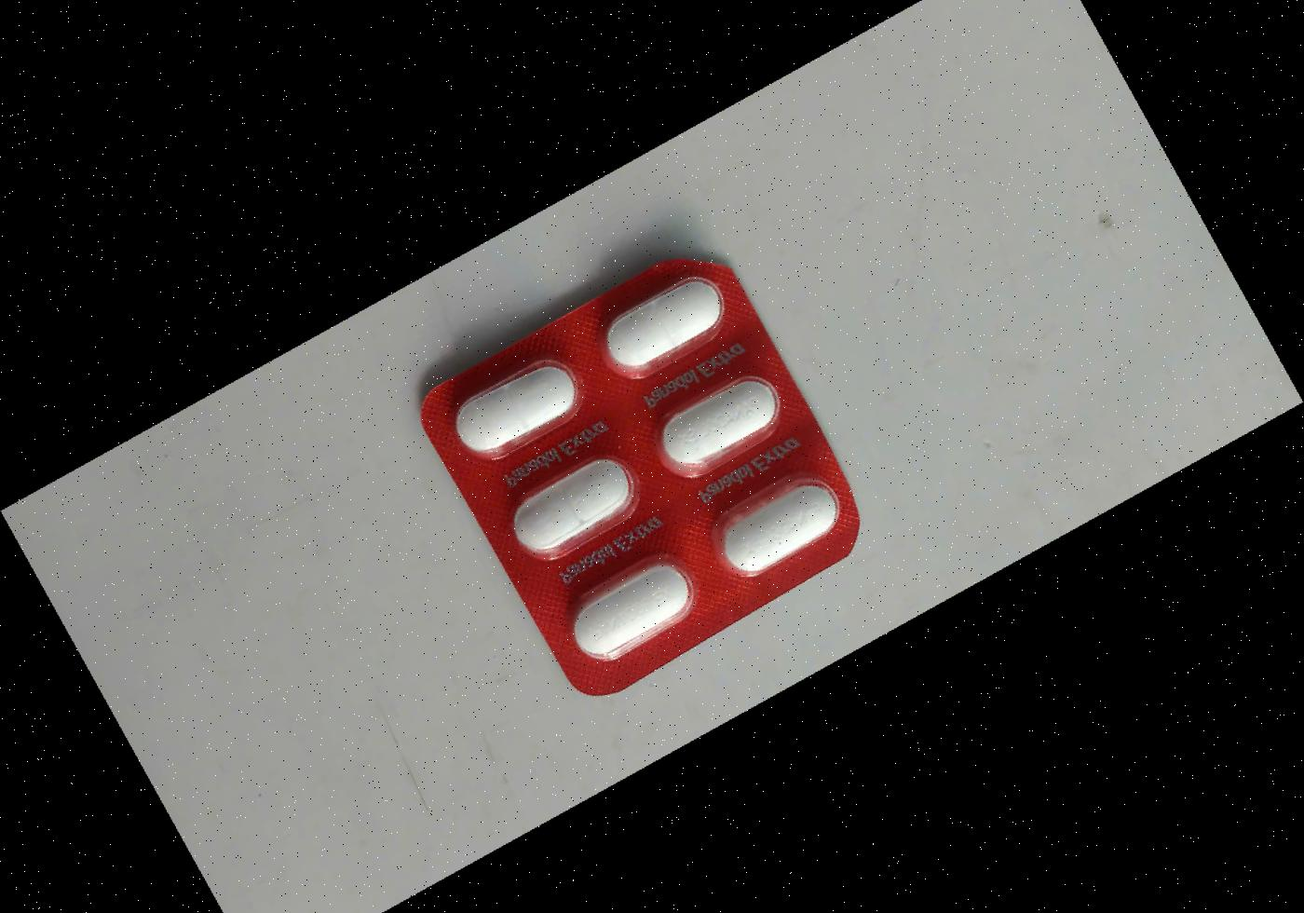Full: (548, 534, 718, 678), (491, 438, 661, 582), (695, 456, 865, 599), (633, 351, 803, 494), (434, 338, 604, 481), (576, 255, 746, 398)
